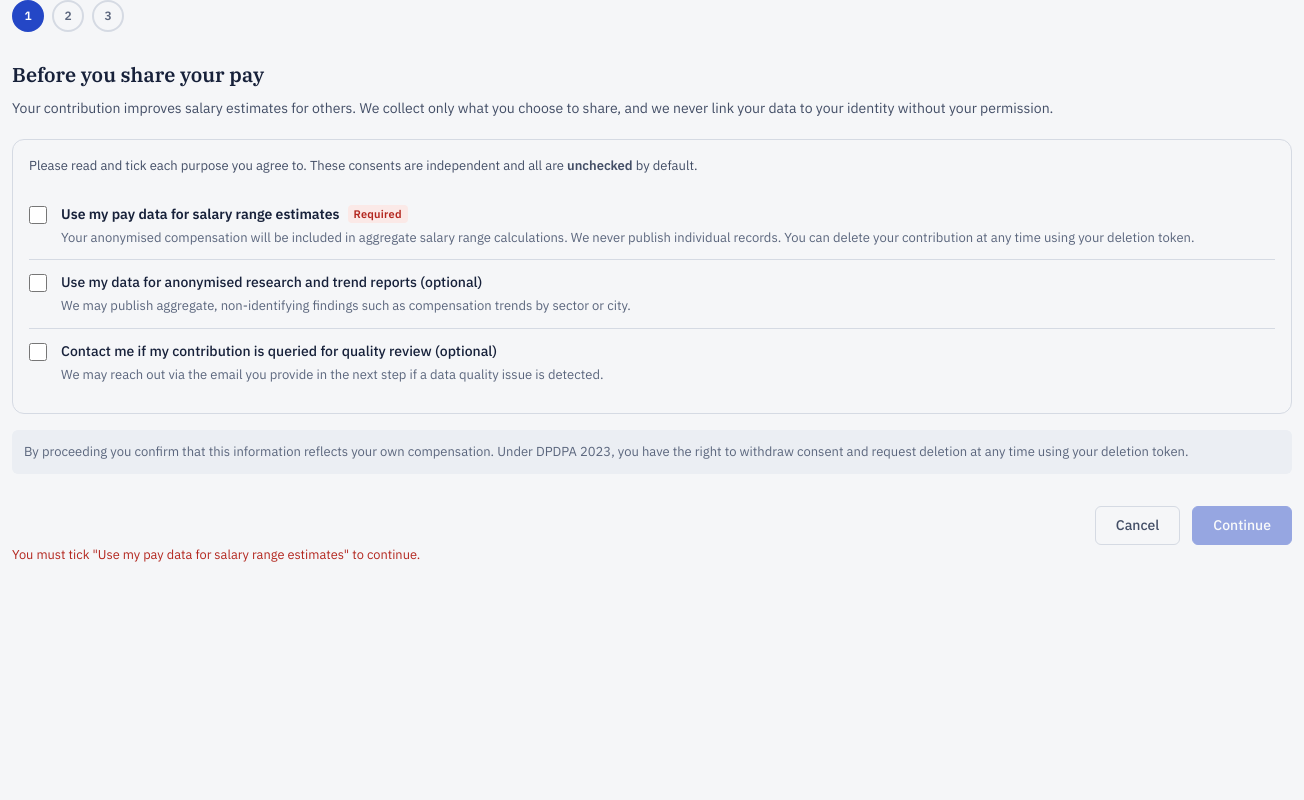
Scenario: ContributionFlow — Step 2: Pay › shows validation errors when submitting empty form
Click the 1st checkbox at {"x": 38, "y": 214}, box [29, 206, 47, 224]
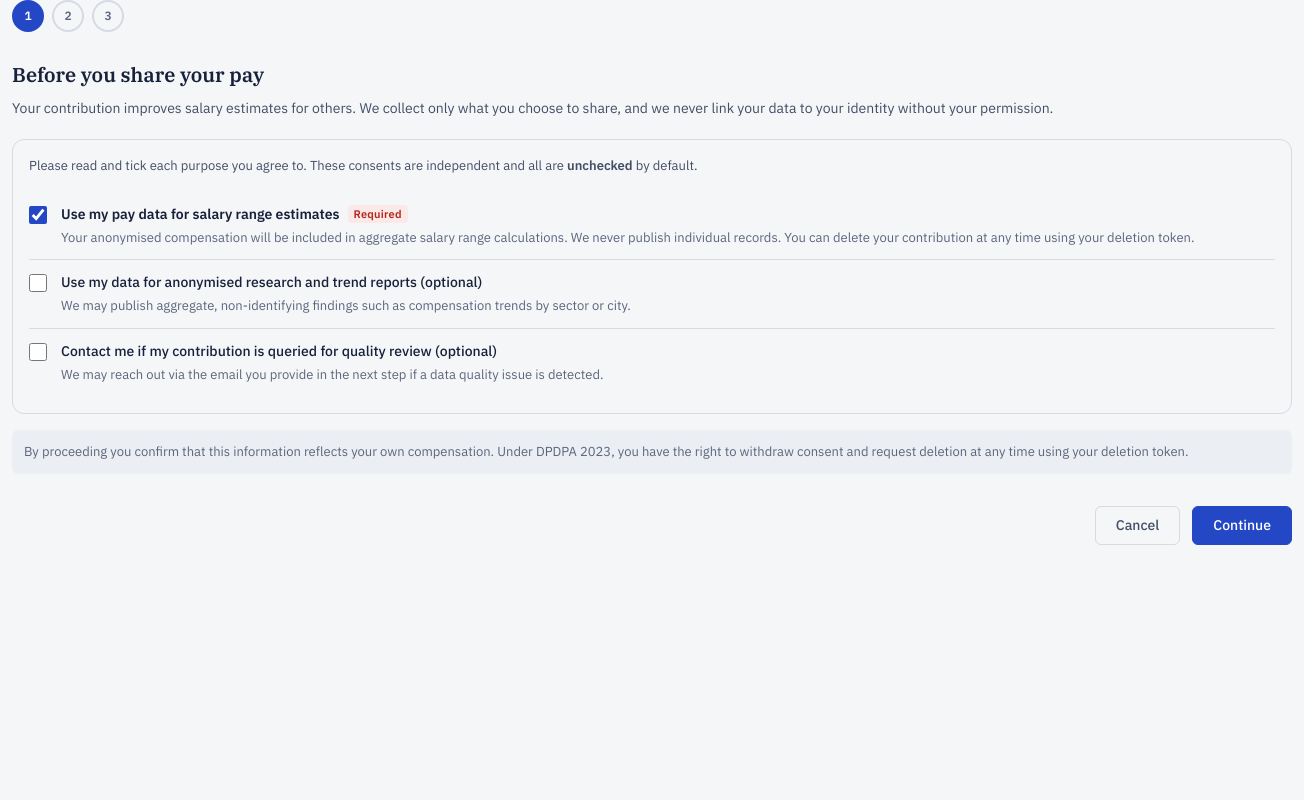
Click the button "Continue" at {"x": 1242, "y": 525}, box [1192, 506, 1292, 544]
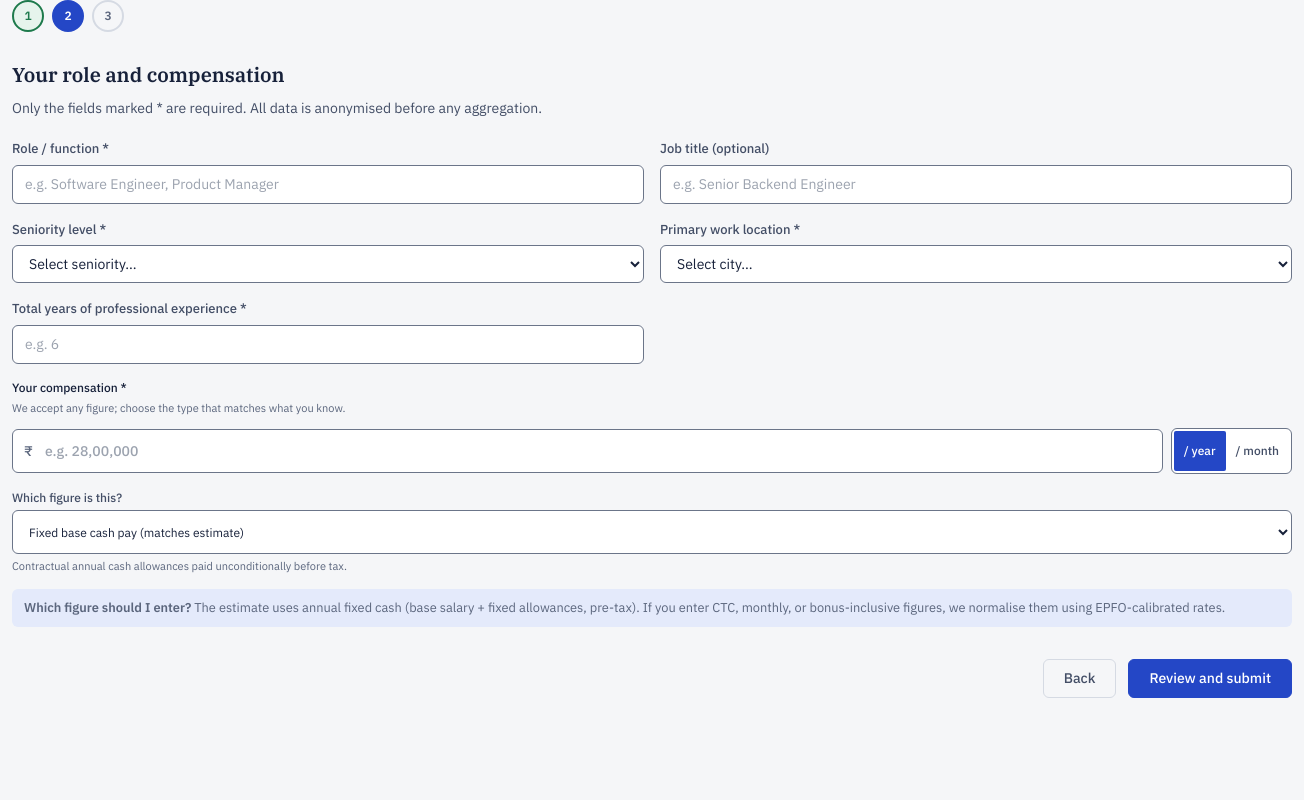
Click the button "Review and submit" at {"x": 1210, "y": 678}, box [1128, 659, 1292, 698]
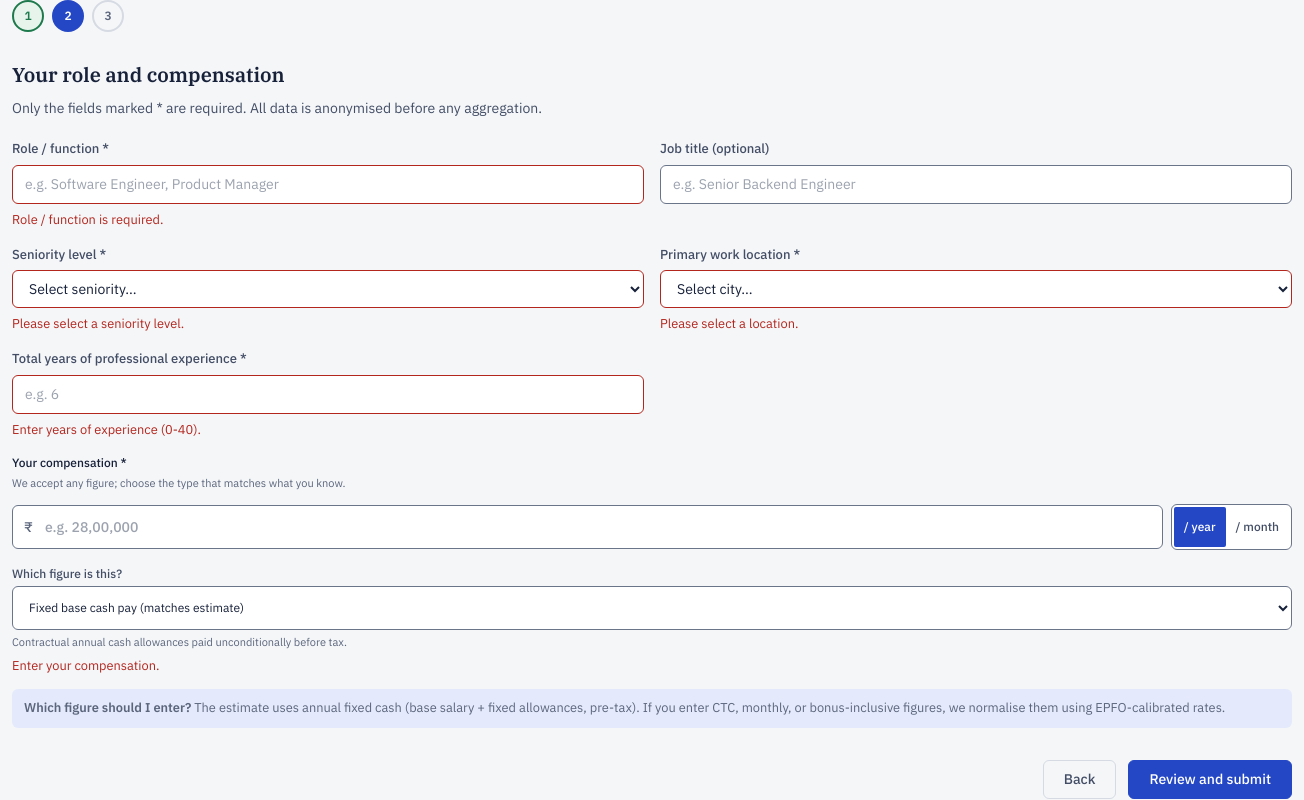
Check: the message "Role / function is required." is shown, box [12, 210, 164, 228]
